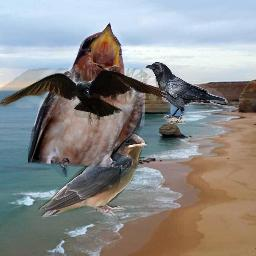Crow: (0, 68, 169, 126), (145, 62, 228, 124)
Swallow: (28, 22, 145, 177), (38, 132, 148, 221)
